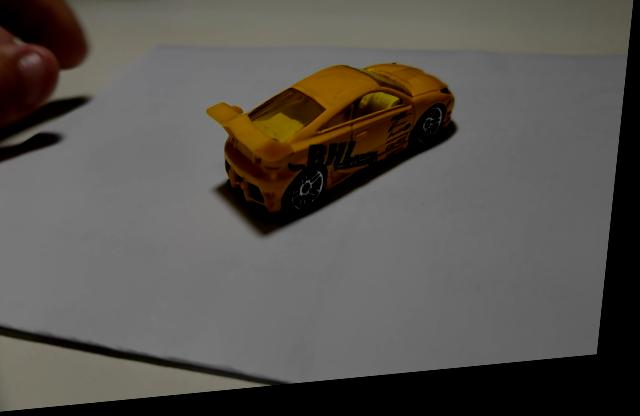07_RHLTURBO: (210, 73, 458, 222)
